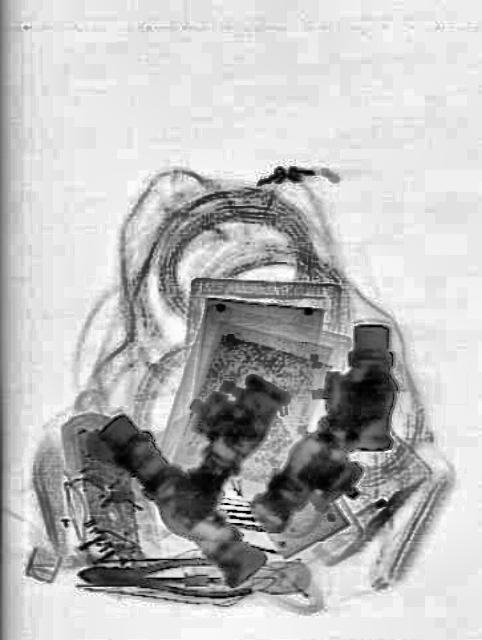Pliers: (76, 553, 251, 597)
